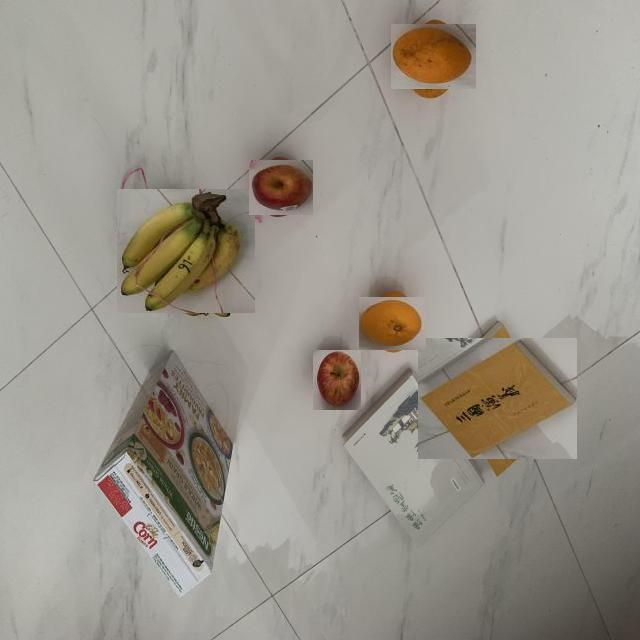Apple: (248, 160, 313, 215), (312, 349, 361, 410)
Banana: (116, 190, 255, 313), (390, 25, 476, 89), (360, 296, 426, 350)
Book: (340, 367, 490, 552), (417, 338, 577, 459)
Cerealbox: (89, 335, 236, 609)
